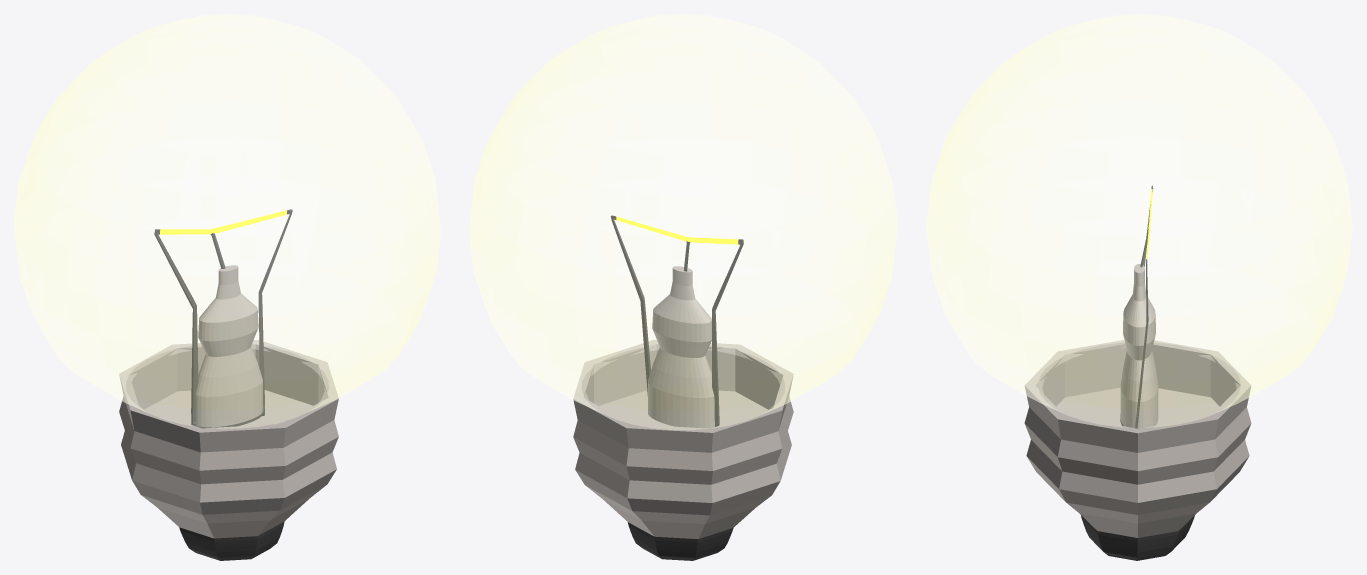
The model's file is foco.glb.
3 views of the same model, side by side, from view 1: azimuth 30°, elevation 25°; view 2: azimuth 150°, elevation 25°; view 3: azimuth 270°, elevation 25° (orthographic).
Parts seen in each view (by area): view 1: foco, socket, Cylinder.001, alambre, negro, luz del alambre; view 2: foco, socket, Cylinder.001, negro, alambre, luz del alambre; view 3: foco, socket, Cylinder.001, negro, alambre.
Part boxes in pixels (x1,y1,x2,y2): foco: (14, 14, 440, 428); socket: (119, 340, 338, 538); Cylinder.001: (195, 265, 262, 427); alambre: (154, 209, 292, 428); negro: (179, 521, 284, 560); luz del alambre: (160, 210, 286, 234); foco: (469, 14, 897, 429); socket: (573, 340, 793, 539); Cylinder.001: (648, 266, 714, 428); negro: (627, 522, 733, 560); alambre: (610, 215, 743, 426); luz del alambre: (616, 216, 738, 244); foco: (926, 14, 1352, 428); socket: (1024, 340, 1251, 537); Cylinder.001: (1120, 264, 1158, 428); negro: (1081, 515, 1194, 560); alambre: (1120, 185, 1153, 428).
Bounding box in the file's own units: 302 × 401 × 302.
